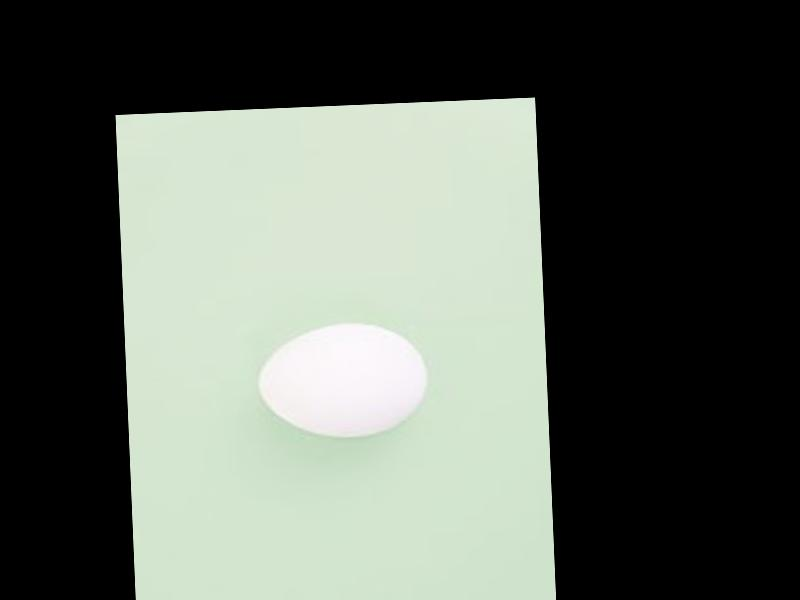Eggs: (256, 320, 431, 442)
